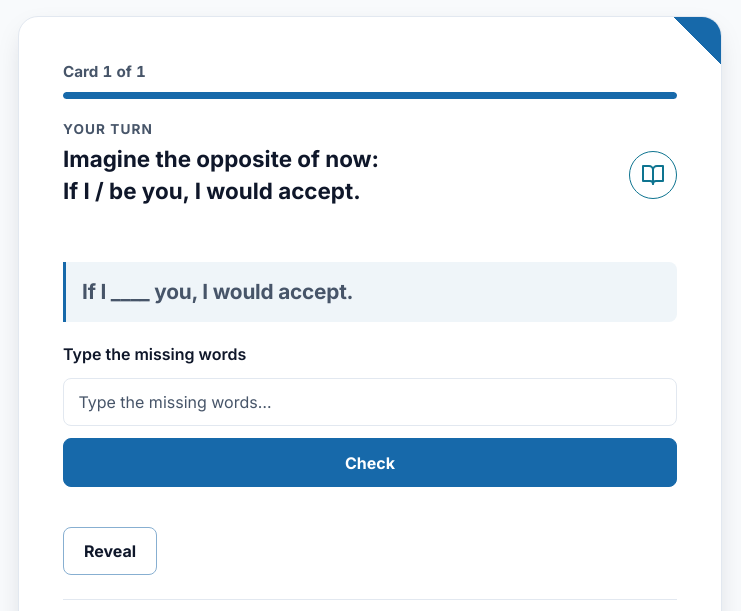
Test case: VerbTensesPracticeClient › soporta ejercicios de condicionales sin cambiar el formato
Check: the text "Conditional Type 2" is not shown
Check: the text "If I were you, I would accept." is not shown
Step 1. Type "were" into the field labelled "Type the missing words" → [370, 402], box [63,378,677,426]
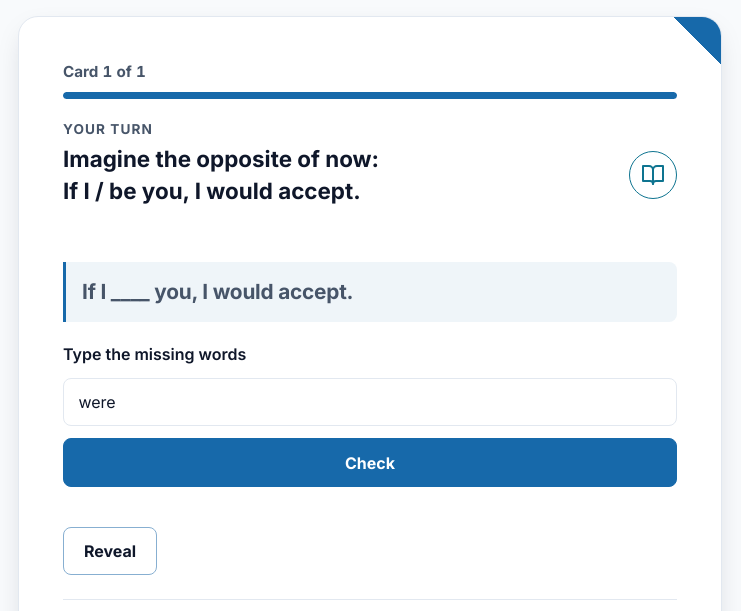
Step 2. Click the button "Check" → [370, 463], box [63,438,677,487]
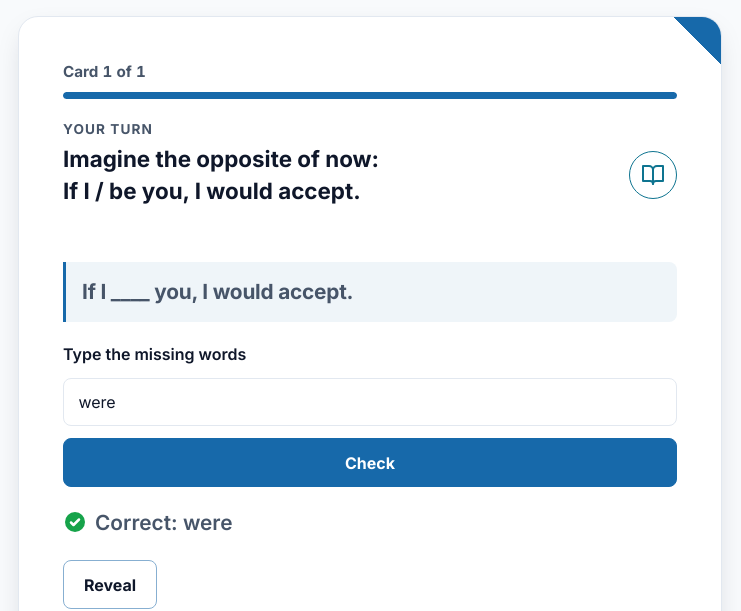
Check: the text "Correct: were" is shown, box [95,507,232,538]
Step 3. Click the button "Reveal" → [110, 585], box [63,560,157,609]
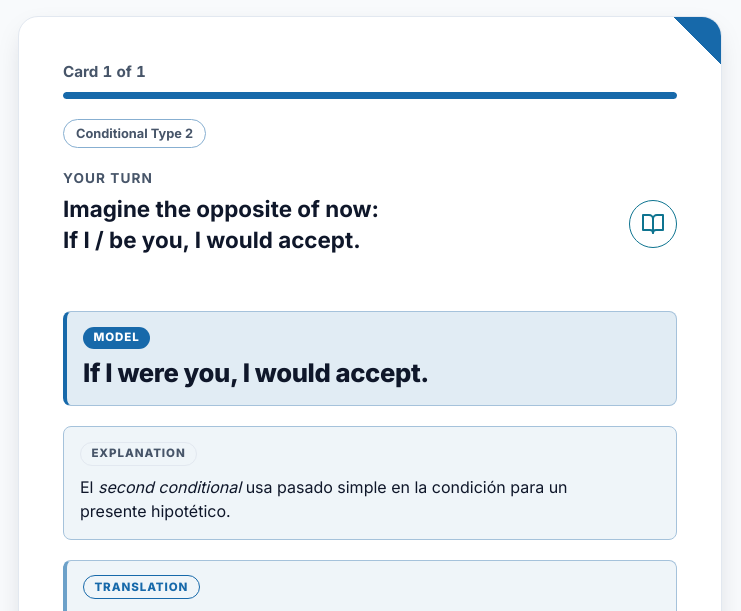
Check: the text "If I were you, I would accept." is shown, box [83,358,429,390]
Check: the text "Conditional Type 2" is shown, box [63,119,206,148]
